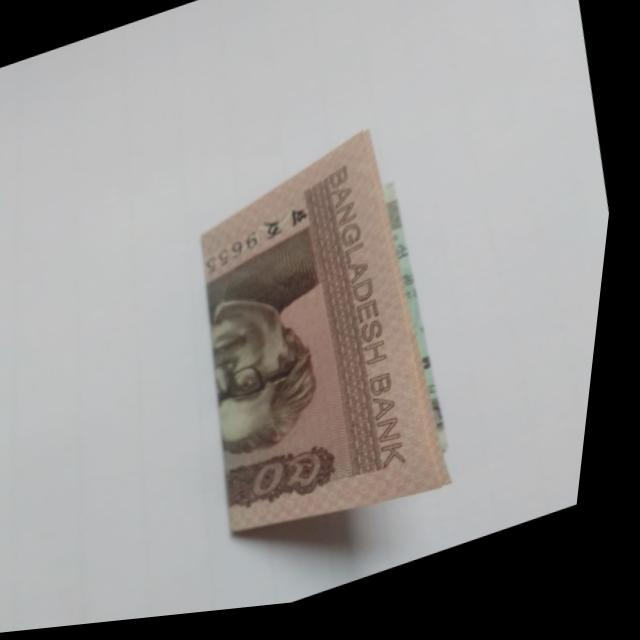Taka: (142, 107, 526, 586)
